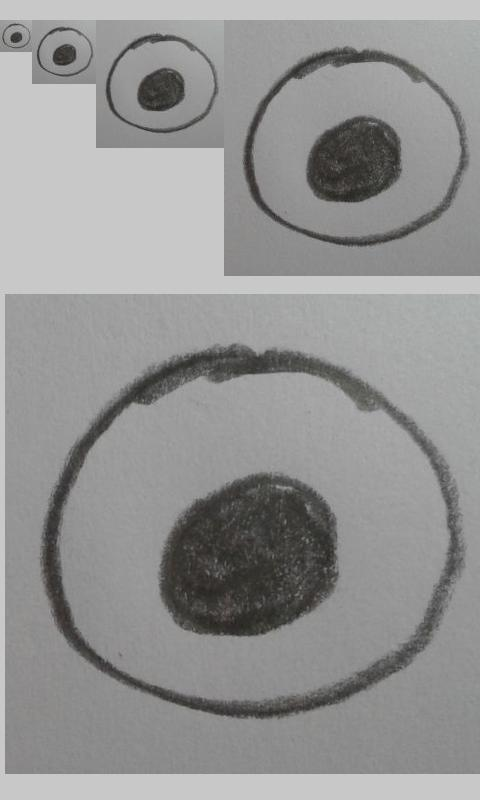radio_button: (40, 342, 465, 719), (243, 46, 469, 247), (105, 33, 220, 134), (36, 27, 94, 77), (1, 22, 31, 49)
